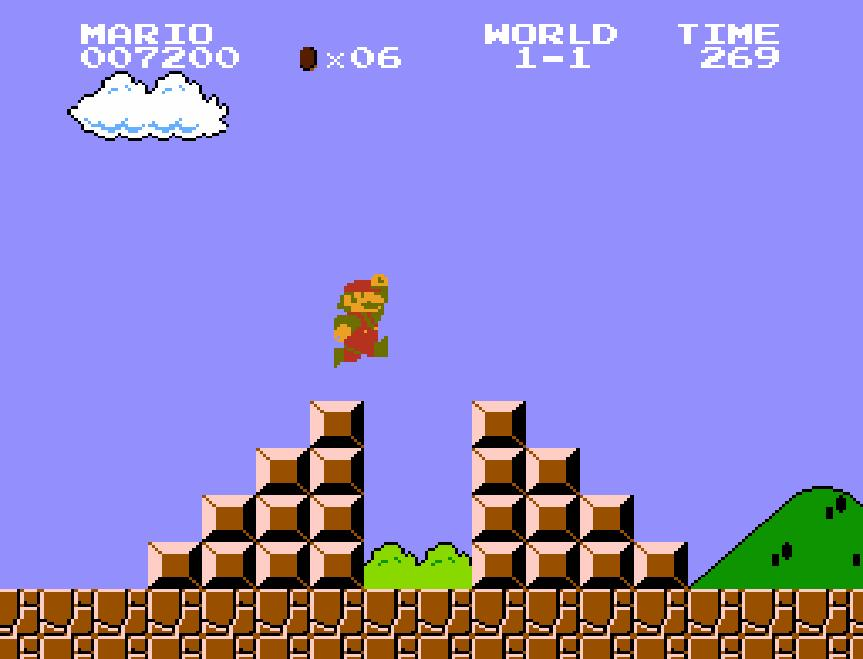big_mario: (332, 272, 390, 370)
